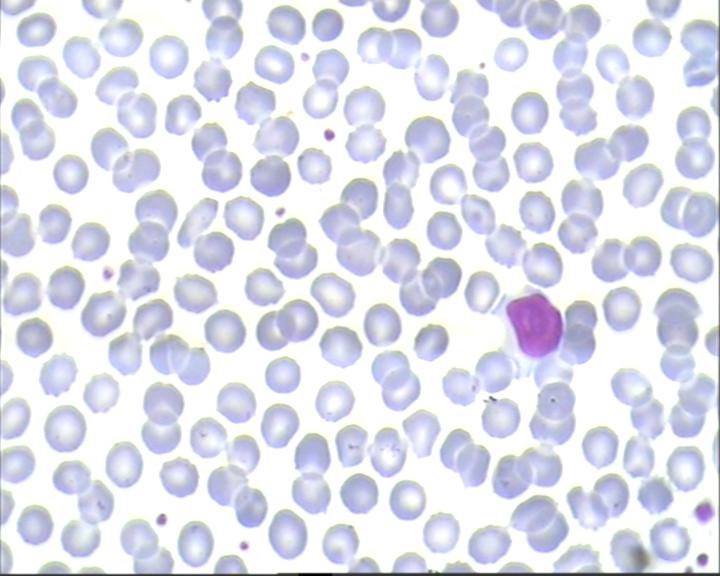lymp: (490, 283, 569, 370)
